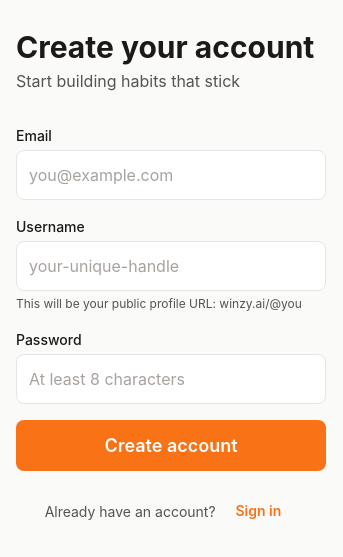
it: SignUpScreen › validates email format
Type "notanemail" into the field with test id "email-input" at (171, 174), box left=16, top=150, right=326, bottom=200
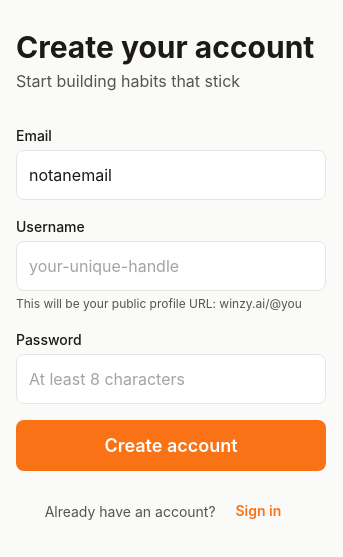
Type "validuser" into the field with test id "username-input" at (171, 266), box left=16, top=240, right=326, bottom=290
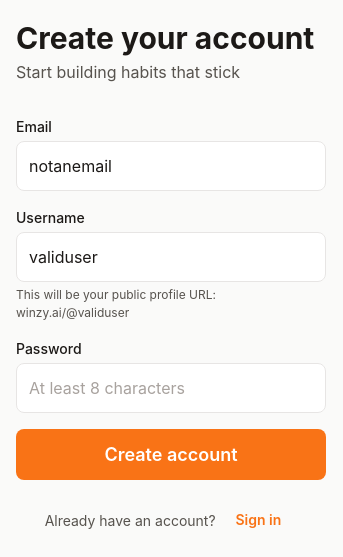
Type "password123" into the password field with test id "password-input" at (171, 388), box left=16, top=362, right=326, bottom=412
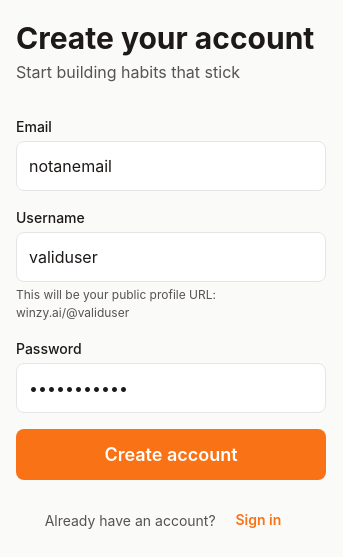
Click the button "Create account" at (171, 454), box left=16, top=428, right=326, bottom=480
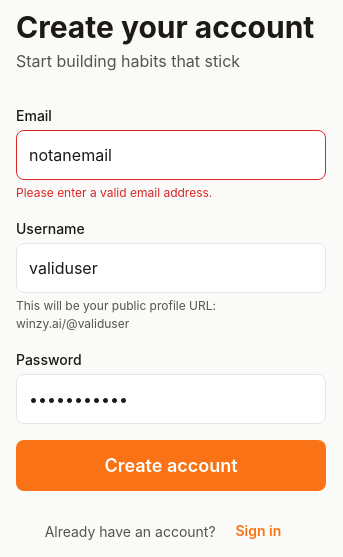
Expected: the text "Please enter a valid email address." is shown, left=16, top=184, right=212, bottom=200
